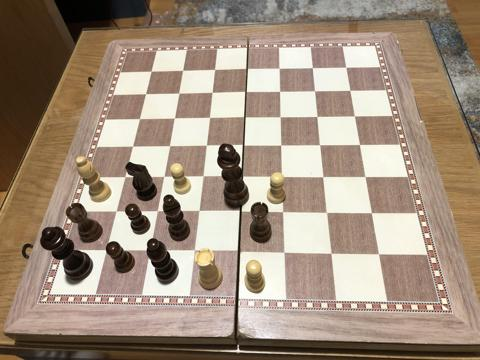xcorner: (177, 64, 190, 77), (206, 86, 219, 99), (318, 170, 331, 183), (278, 206, 291, 219), (306, 62, 319, 74), (274, 62, 286, 75), (274, 85, 287, 97), (140, 88, 153, 100), (204, 111, 216, 124), (134, 112, 147, 124), (354, 138, 366, 151), (164, 139, 176, 152), (127, 140, 140, 152), (360, 170, 372, 183), (277, 170, 289, 183), (237, 170, 249, 183), (197, 170, 209, 183), (158, 170, 170, 183), (120, 170, 132, 183), (235, 206, 248, 218), (152, 205, 164, 218), (374, 249, 387, 261), (234, 246, 246, 259), (144, 245, 157, 257), (340, 61, 352, 73), (241, 63, 253, 75), (209, 64, 221, 76), (146, 65, 158, 77), (344, 84, 356, 96), (309, 85, 321, 97), (240, 86, 252, 98), (173, 87, 185, 99), (349, 110, 361, 122), (312, 110, 324, 122), (275, 111, 287, 123), (239, 111, 251, 123), (169, 112, 181, 124), (315, 139, 327, 151), (276, 139, 288, 151), (238, 139, 250, 151), (201, 139, 213, 151), (367, 207, 379, 219), (322, 207, 334, 219), (193, 206, 205, 218), (111, 205, 123, 217), (327, 248, 339, 260), (280, 247, 292, 259), (189, 246, 201, 258), (101, 244, 113, 256)
